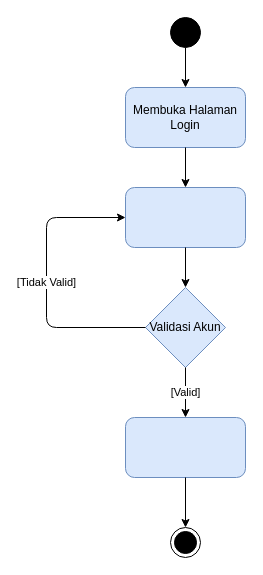
This 263x575 diagram has some shape labels left out. Here are the shapes that lost their labels. From the top down, the box of each, then its label:
(124, 186, 246, 248): Input Username & Password Admin
(124, 416, 246, 478): Masuk ke Dashboard Admin
